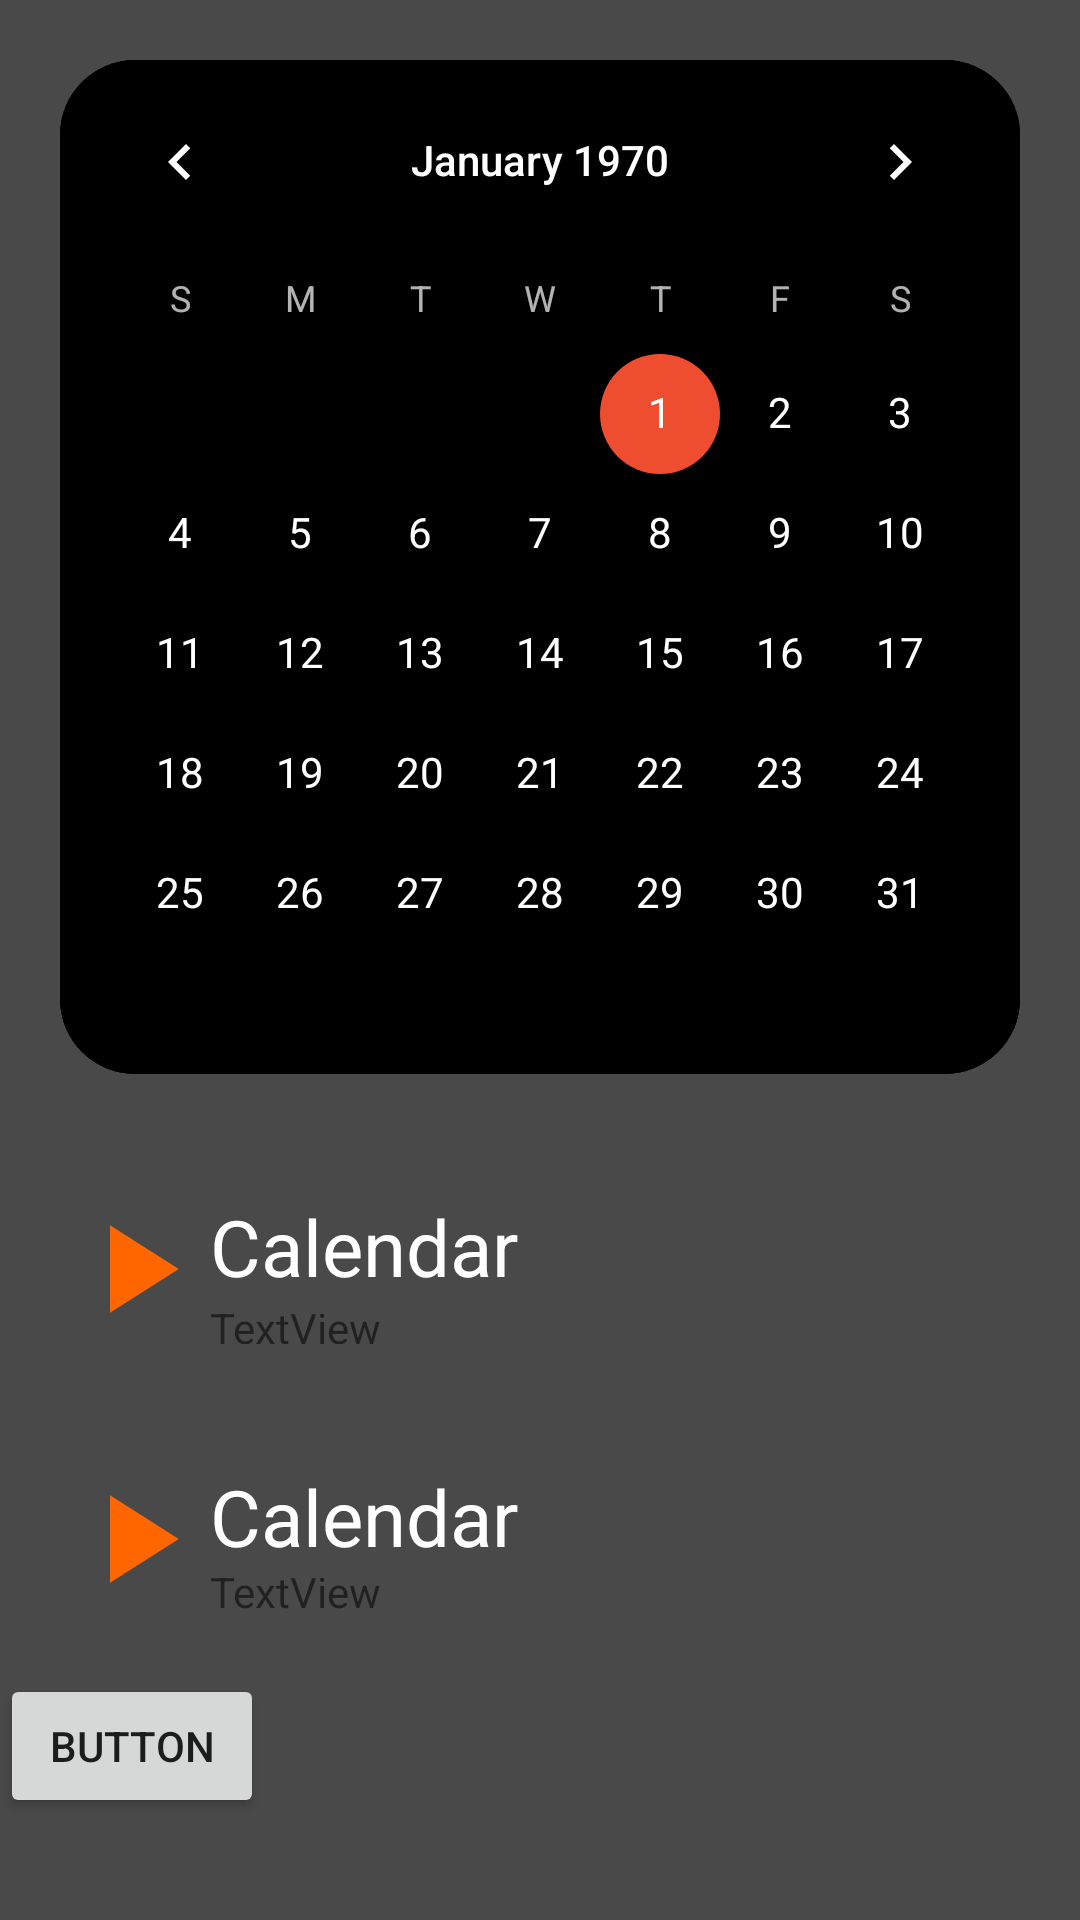

Icon bounding boxes for this 1080x1920 phone screenshot, format (x1, y1, x2, y2):
shoppee calender arrow: (110, 1225, 179, 1313), (110, 1495, 179, 1583)
